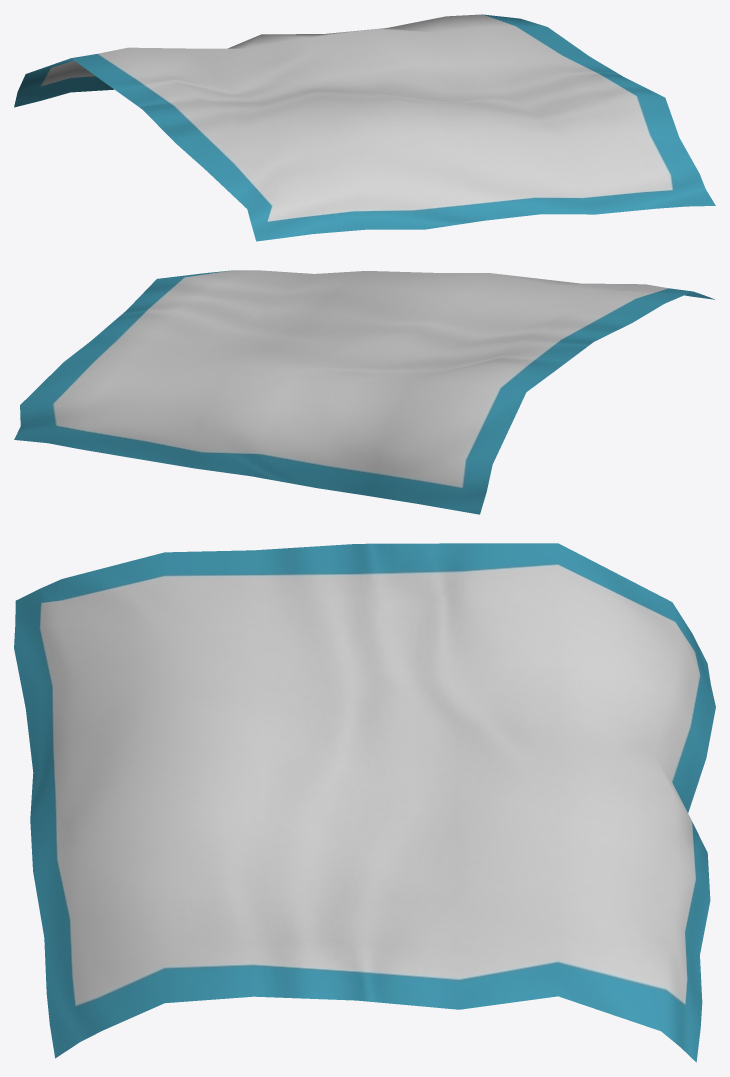
The model's file is cloth_02_onpatient_os_care.fbx.
3 views of the same model, one above another, from view 1: azimuth 30°, elevation 25°; view 2: azimuth 150°, elevation 25°; view 3: azimuth 270°, elevation 25° (orthographic). The views are drawn at different scales.
Parts seen in each view (by area): view 1: cloth_02_onpatient_os_care; view 2: cloth_02_onpatient_os_care; view 3: cloth_02_onpatient_os_care.
Boxes of the visible parts, left/top/right/bottom form: cloth_02_onpatient_os_care: left=14, top=14, right=715, bottom=241; cloth_02_onpatient_os_care: left=14, top=270, right=714, bottom=514; cloth_02_onpatient_os_care: left=14, top=543, right=715, bottom=1062.
Bounding box in the file's own units: 0.5117 × 0.1316 × 0.4419.
